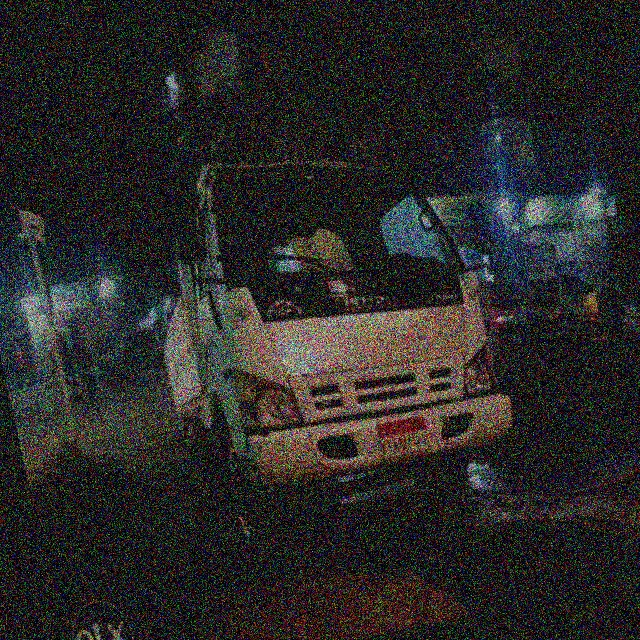License Plate: (372, 413, 433, 464)
